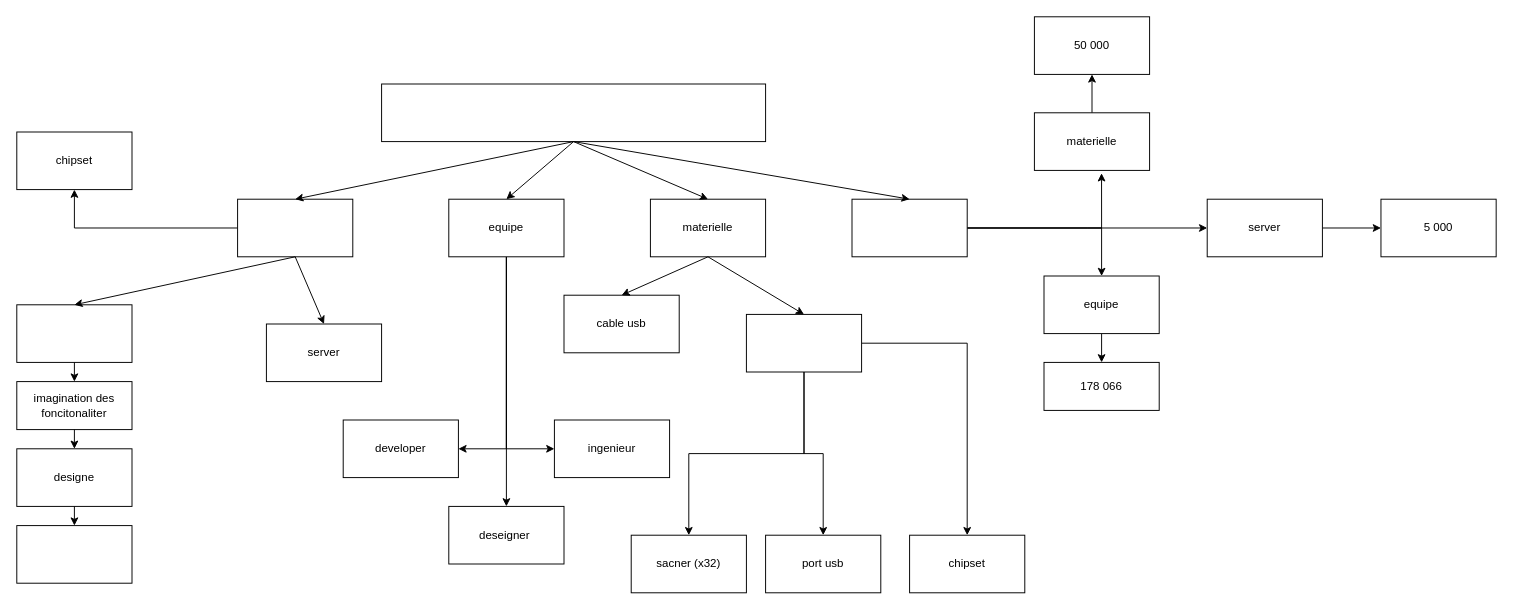
Image size: 1513x610. Some labels were removed from this diagram. The shapes that lost their labels are listed below. From the top down, each one's centre as x and y in pixels, then its label:
At point (573, 112): "chepa".
At point (295, 227): "developement".
At point (909, 227): "budget".
At point (74, 333): "aplication".
At point (803, 342): "lecteur".
At point (74, 554): "implementation".
